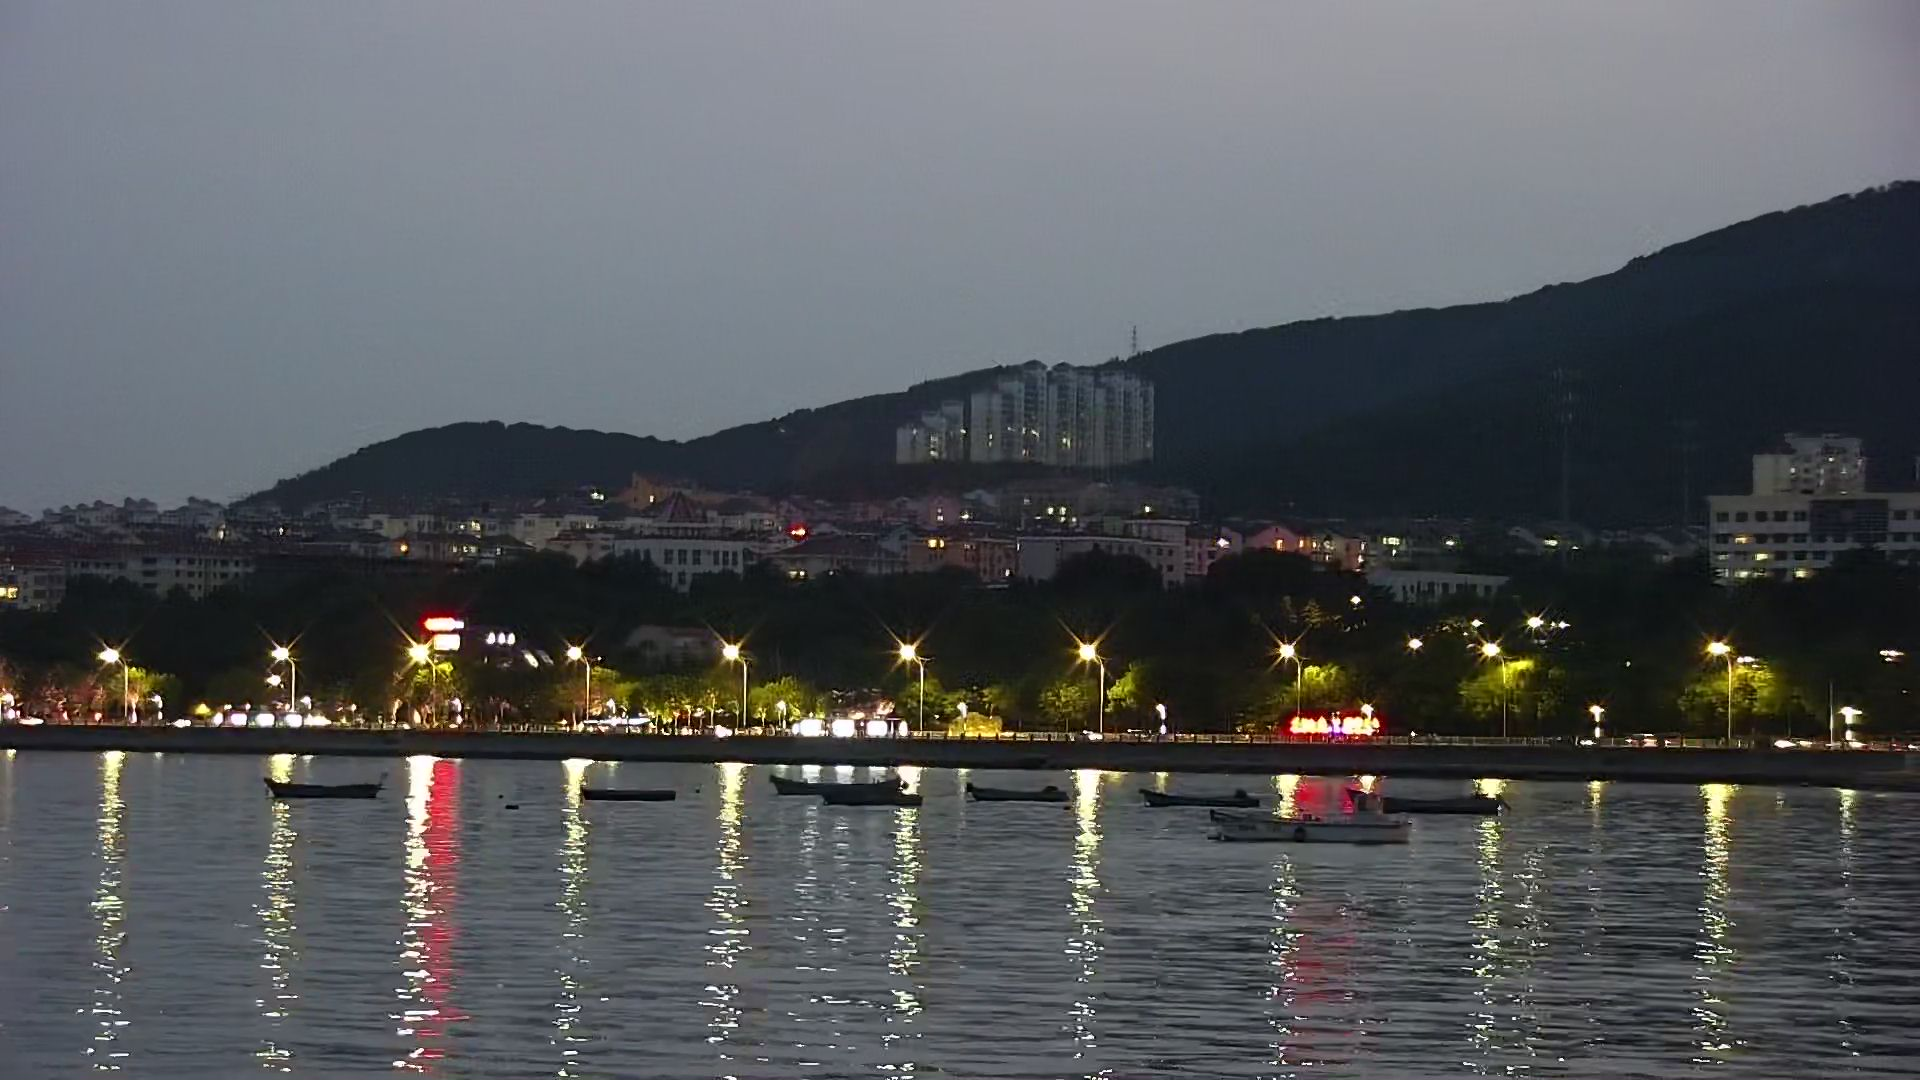boat: (1203, 812, 1420, 849), (256, 769, 382, 811), (1346, 790, 1511, 819), (766, 770, 898, 804), (814, 789, 927, 822), (1135, 782, 1262, 811), (956, 779, 1087, 807), (572, 781, 687, 804)
